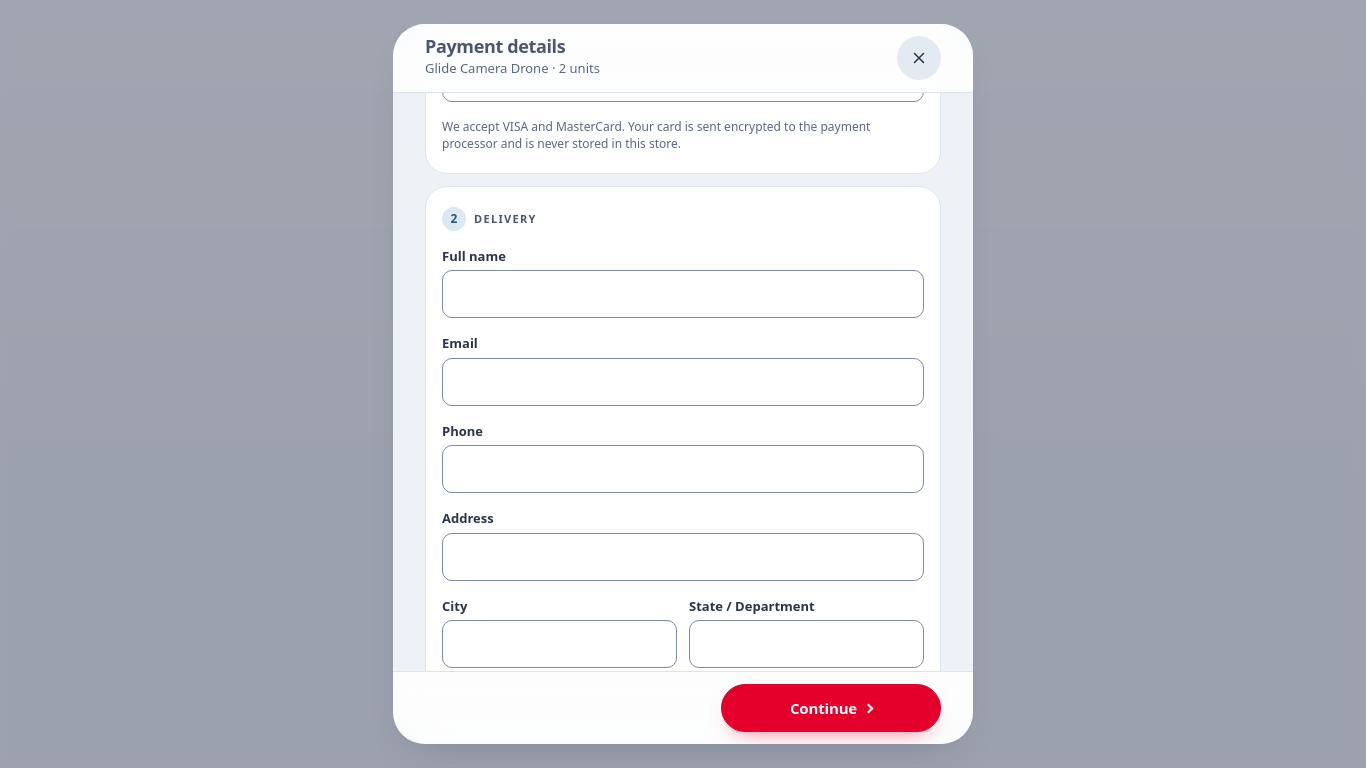
Test: DetailsModal › validation › checks a field when the customer leaves it
(page scrolled)
Step 1. Type "ana@" into the field labelled "Email" → [683, 382], box [442, 358, 924, 406]
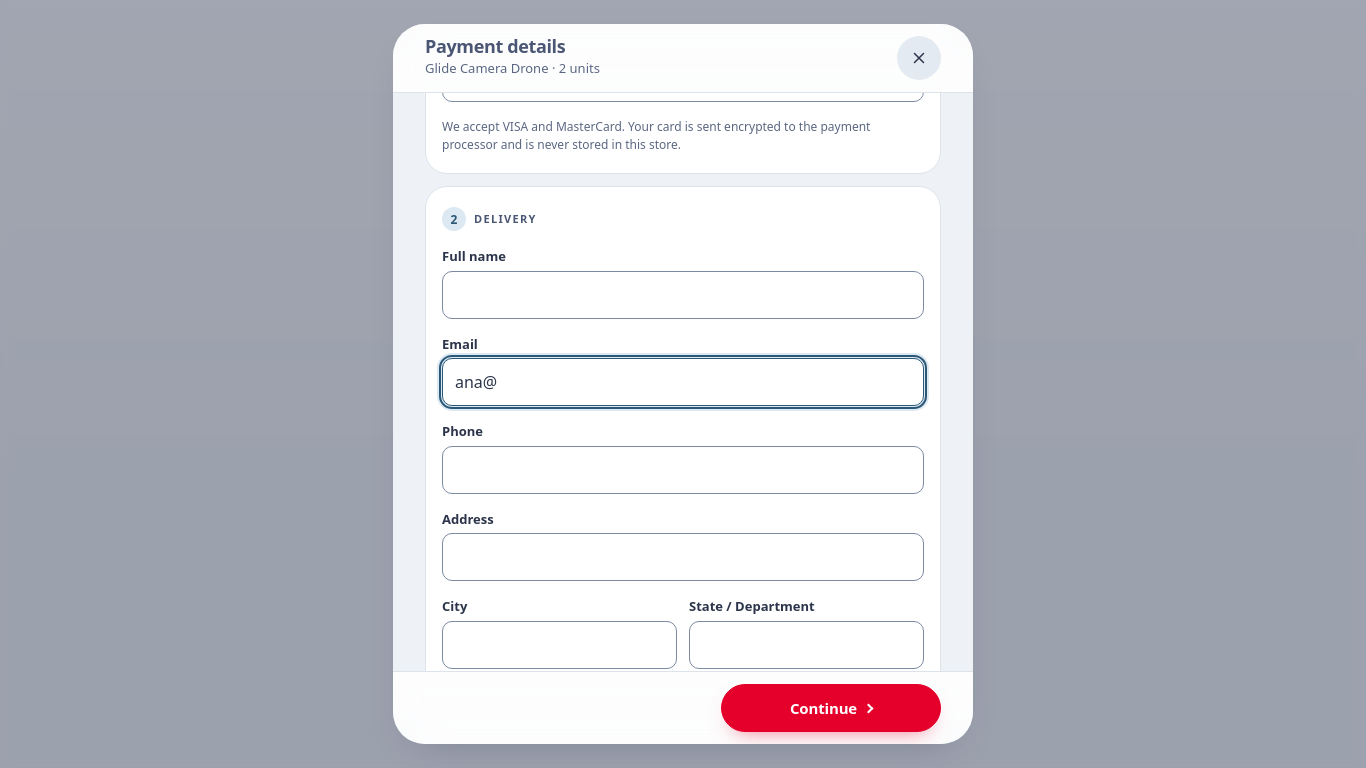
Step 2. Press Tab
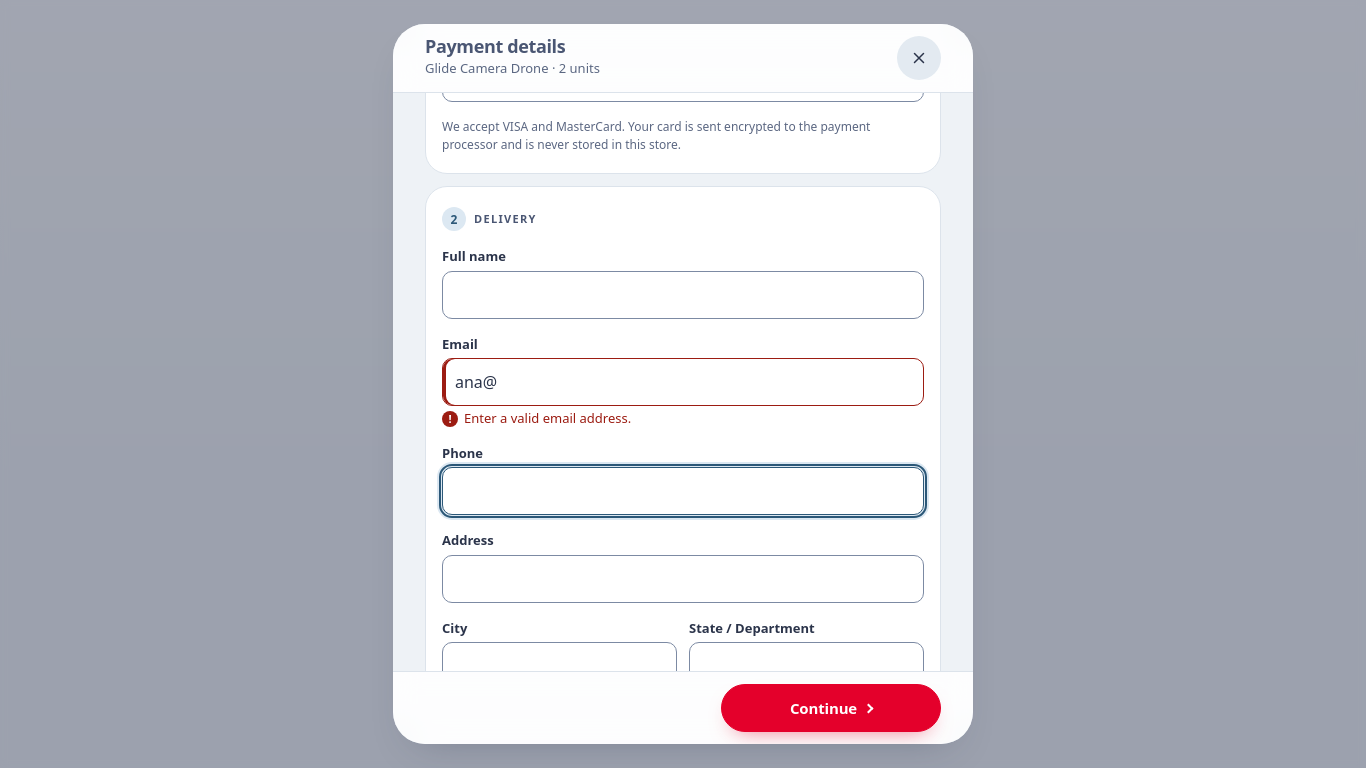
Expected: the text "Enter a valid email address." is shown, [464, 409, 631, 427]
